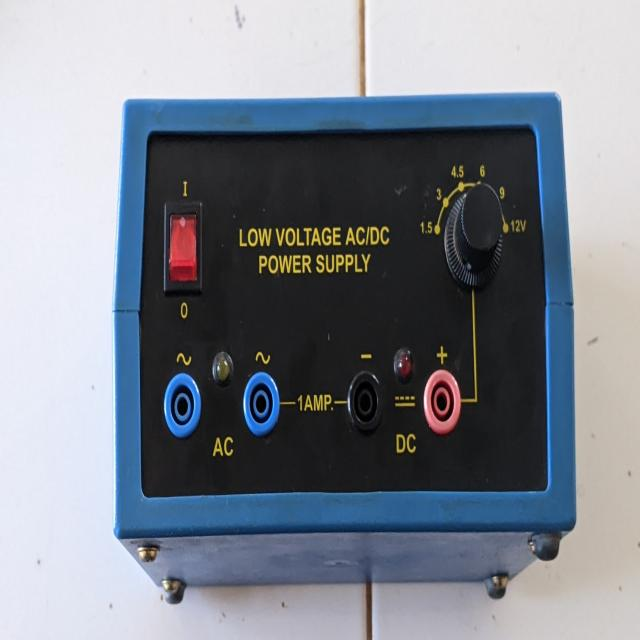Low Voltage AC-DC Power Supply 12 V: (112, 82, 586, 606)
